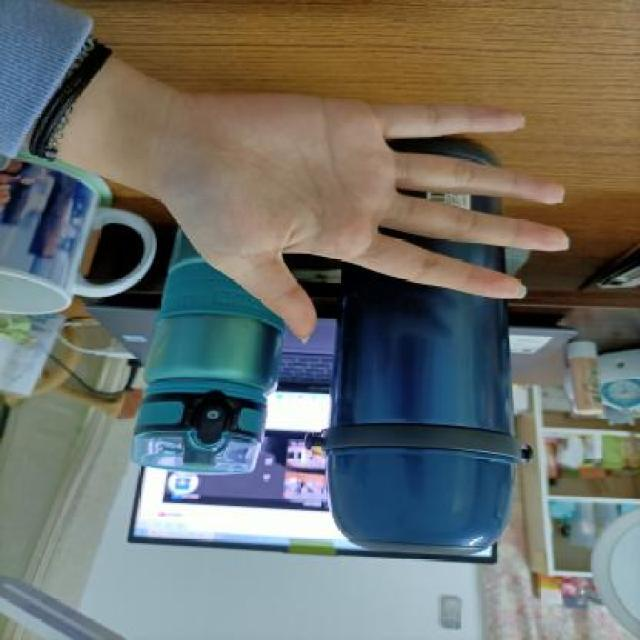bare_hand: (120, 62, 585, 364)
